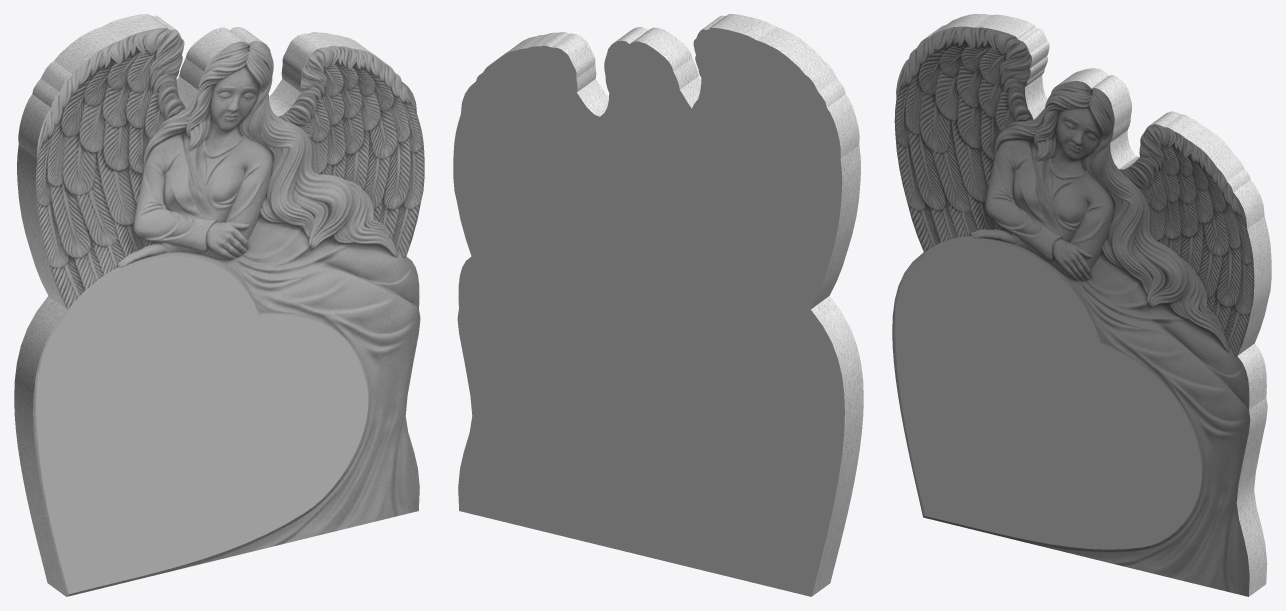
File: cndc6f11628f_tkf.glb
The picture shows the model from 3 angles, left to right: view 1: azimuth 30°, elevation 25°; view 2: azimuth 150°, elevation 25°; view 3: azimuth 330°, elevation 25°; orthographic projection. The views are drawn at different scales.
Visible parts, largest first — view 1: Pam-d02-101_2_notexture, Pam-d02-101; view 2: Pam-d02-101, Pam-d02-101_2_notexture; view 3: Pam-d02-101_2_notexture, Pam-d02-101.
Part boxes in pixels (x1,y1,x2,y2): Pam-d02-101_2_notexture: [14, 14, 424, 596]; Pam-d02-101: [36, 256, 368, 594]; Pam-d02-101: [453, 27, 844, 596]; Pam-d02-101_2_notexture: [481, 14, 863, 596]; Pam-d02-101_2_notexture: [892, 14, 1271, 596]; Pam-d02-101: [895, 240, 1202, 549].
Size of the model in its own units: 0.6 by 0.8 by 0.05.
1 material, 1 textured.
